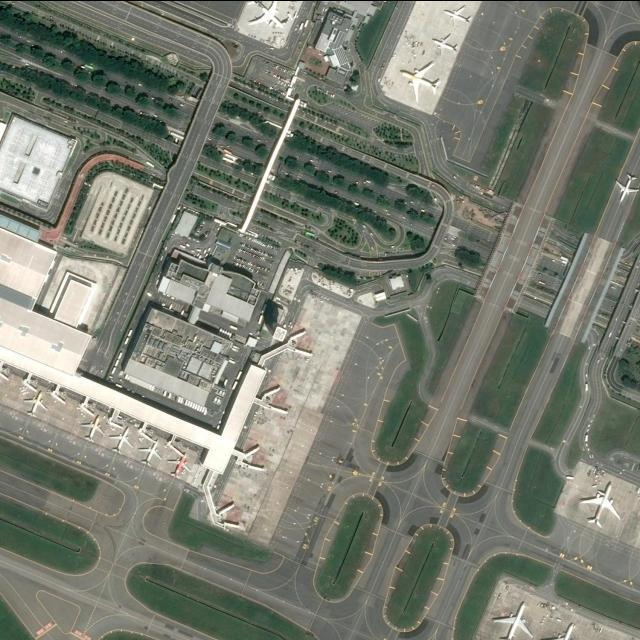Aircraft: (579, 482, 625, 527), (399, 61, 445, 103), (496, 602, 538, 640), (247, 0, 291, 30), (614, 172, 640, 202), (443, 3, 475, 25), (110, 424, 135, 452), (140, 440, 164, 466), (83, 415, 106, 442), (432, 33, 462, 53), (169, 452, 193, 477), (24, 390, 49, 414)
